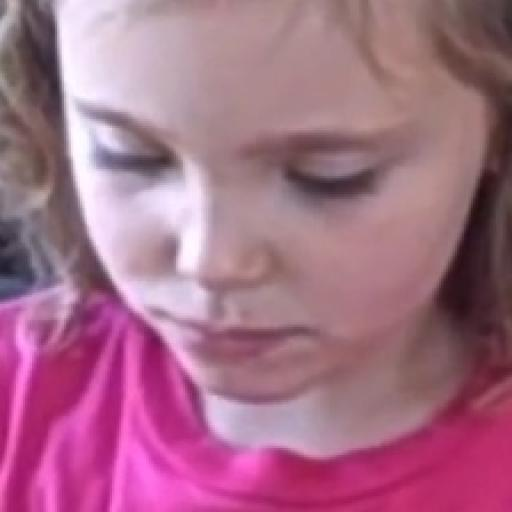Autism: (23, 0, 512, 430)
